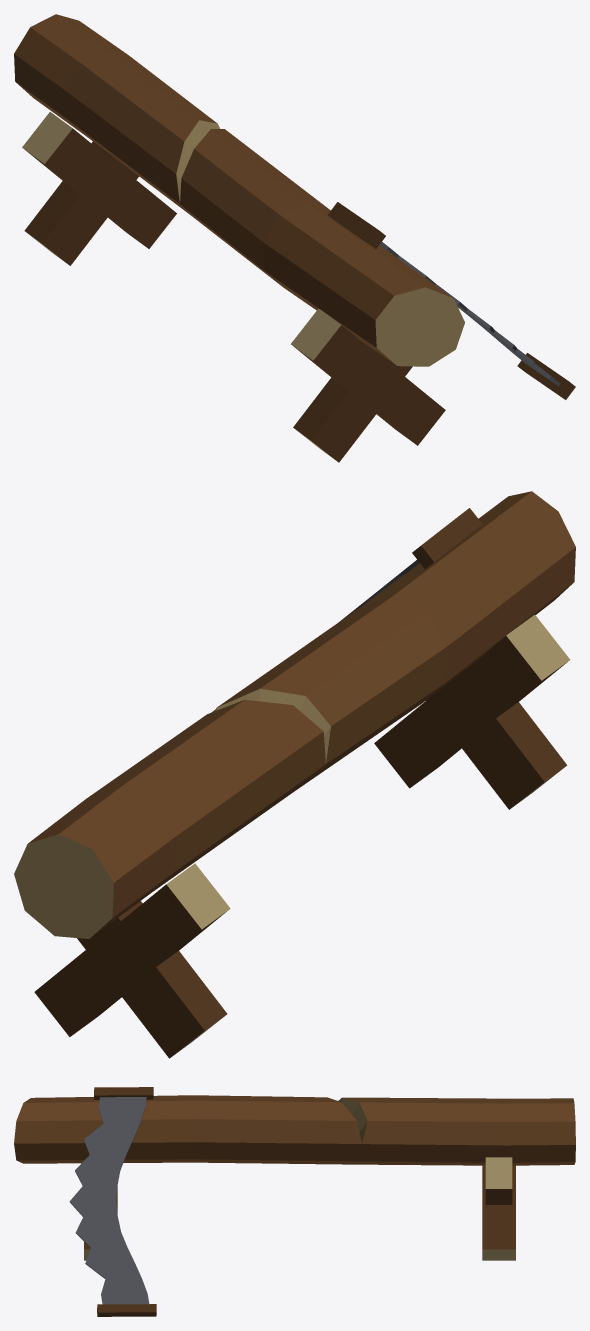
Rendered from Sawmill Saw.glb.
3 renders of one model, top to bottom at view 1: azimuth 30°, elevation 25°; view 2: azimuth 150°, elevation 25°; view 3: azimuth 270°, elevation 25°, orthographic. The views are drawn at different scales.
Visible parts, largest first — view 1: Sawmill Saw; view 2: Sawmill Saw; view 3: Sawmill Saw.
Part boxes in pixels (<box>): Sawmill Saw: <box>14,14,575,462</box>; Sawmill Saw: <box>14,491,575,1058</box>; Sawmill Saw: <box>14,1087,575,1316</box>.
Bounding box in the file's own units: 0.7053 × 0.5415 × 1.7.
